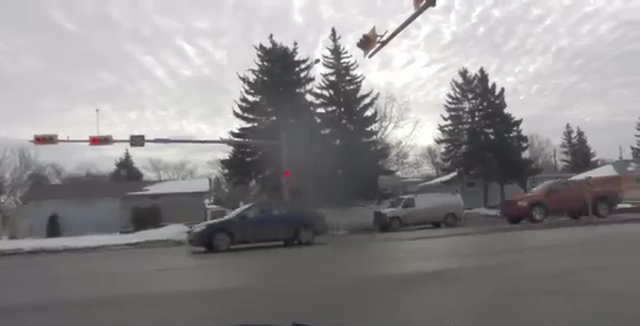car: (190, 197, 327, 254), (498, 176, 621, 224), (373, 192, 466, 231)
